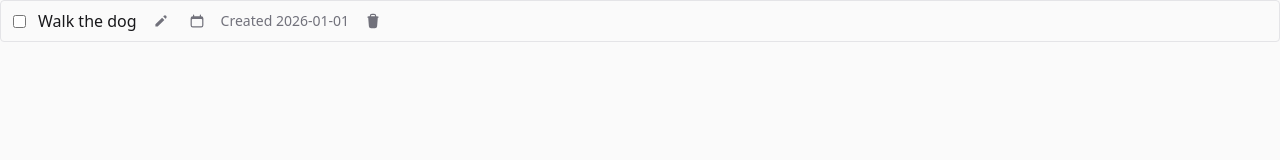
Test: <TodoItem> when a mutation fails (§10) › AC-10.2: shows exactly one alert "Could not save, try again" in the row and keeps the draft "Walk the cat" in edit mode when Save fails, then removes it on the
Click the button named "Edit title" at (161, 21), box [149, 9, 173, 33]
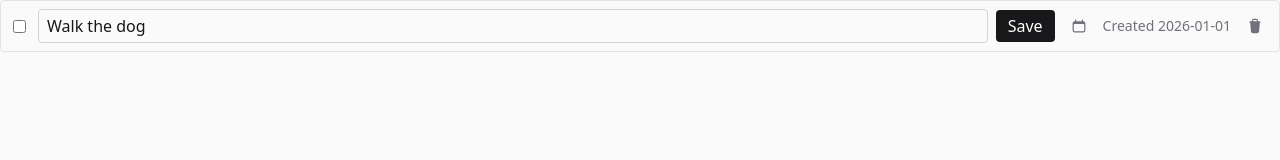
Replace the text in the field named "Edit title" with "Walk the cat" at (513, 26), box [38, 9, 988, 43]
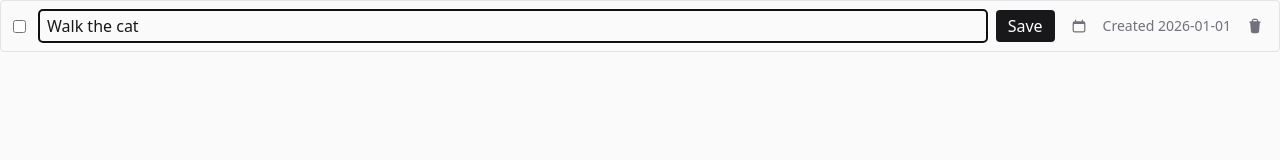
Click the button "Save" at (1025, 26), box [996, 10, 1055, 42]
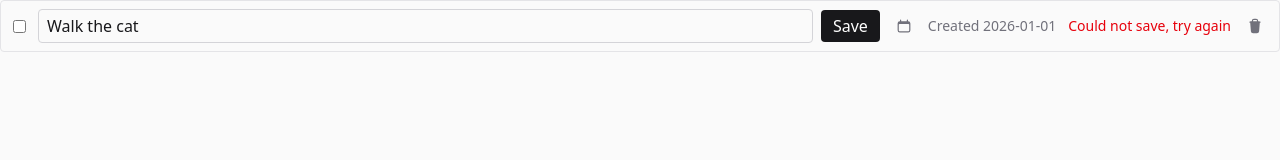
Expected: the number of messages is 1, [1068, 16, 1231, 36]
Expected: the message reads "Could not save, try again", [1068, 16, 1231, 35]
Note: REQ-10.5: the next successful attempt on the same control removes the message.
Click the button "Save" at (850, 26), box [821, 10, 880, 42]
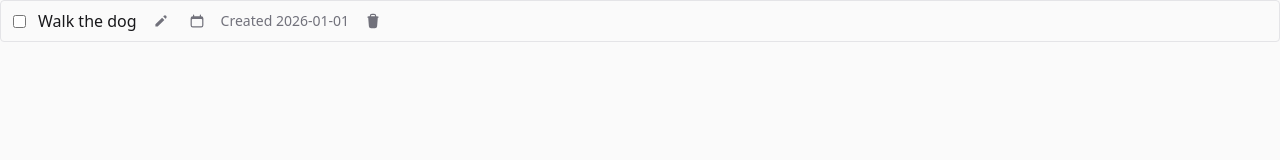
Expected: no messages are shown
